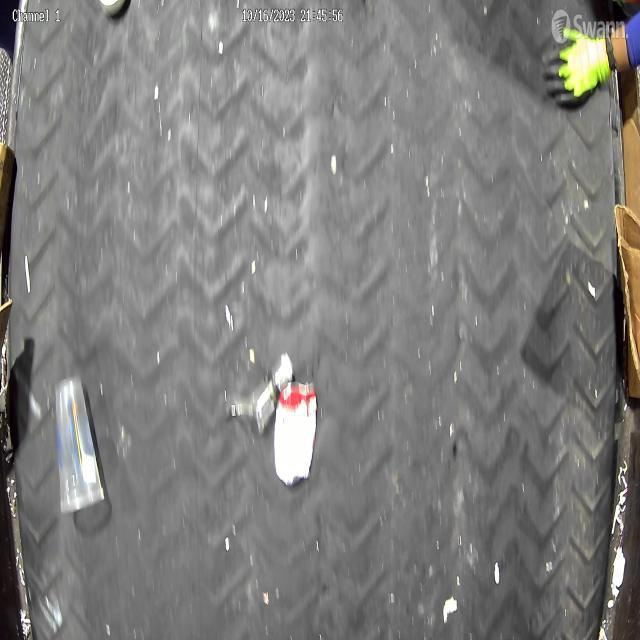can: (272, 380, 318, 488)
